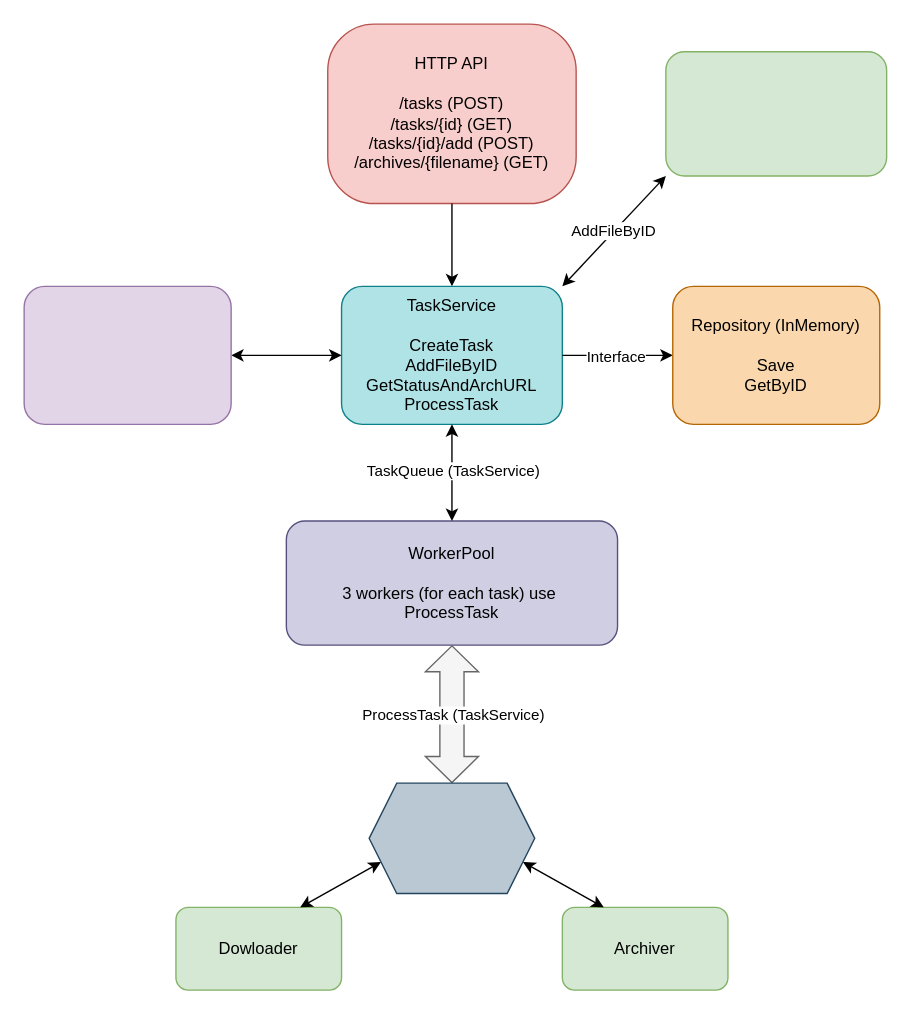
Some shapes in this 915 by 1014 pixel diagram are drawn without their labels. Here are the shapes that lost their labels. From the top down, the box of each, then its label:
(664, 50, 887, 176): Validator For doing IsReachable validation of URL
(23, 285, 231, 424): LockTaskManager Gets locks for each task
(368, 782, 535, 894): Semaphore (3 files once)
